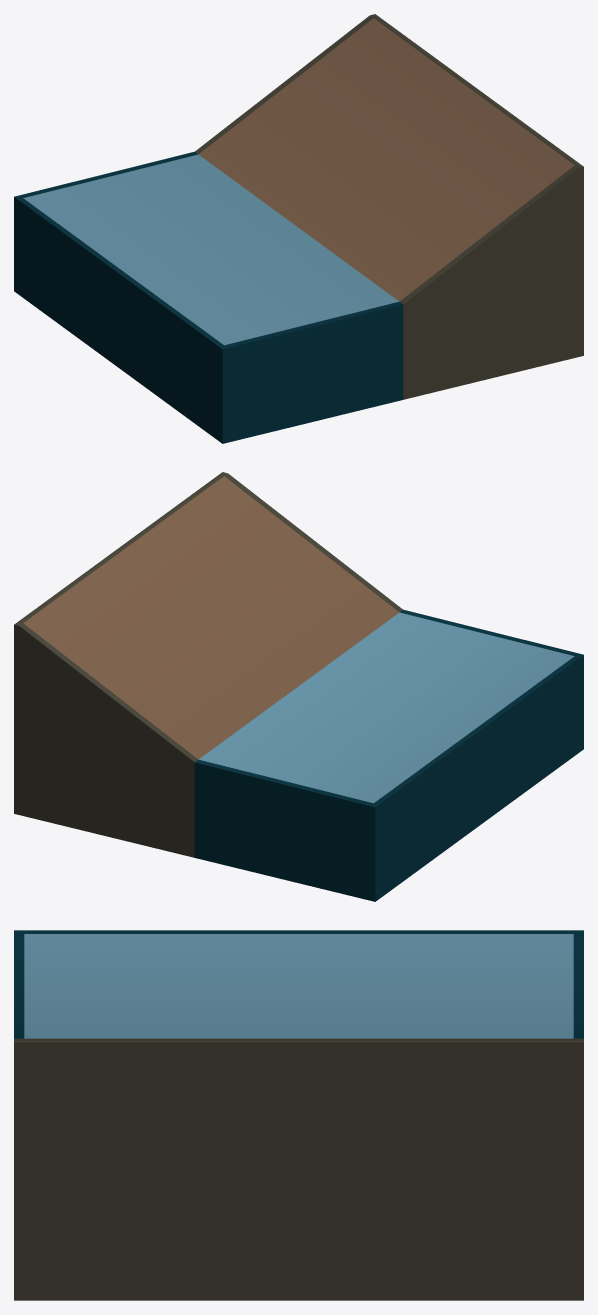
The model's file is Agua_17.fbx.
3 renders of one model, top to bottom at view 1: azimuth 30°, elevation 25°; view 2: azimuth 150°, elevation 25°; view 3: azimuth 270°, elevation 25°, orthographic. The views are drawn at different scales.
Visible parts, largest first — view 1: pCube2; view 2: pCube2; view 3: pCube2.
Boxes of the visible parts, bbox=[...] form: pCube2: bbox=[14, 14, 583, 443]; pCube2: bbox=[14, 472, 583, 901]; pCube2: bbox=[14, 930, 583, 1300].
Bounding box in the file's own units: 200 × 100 × 200.
